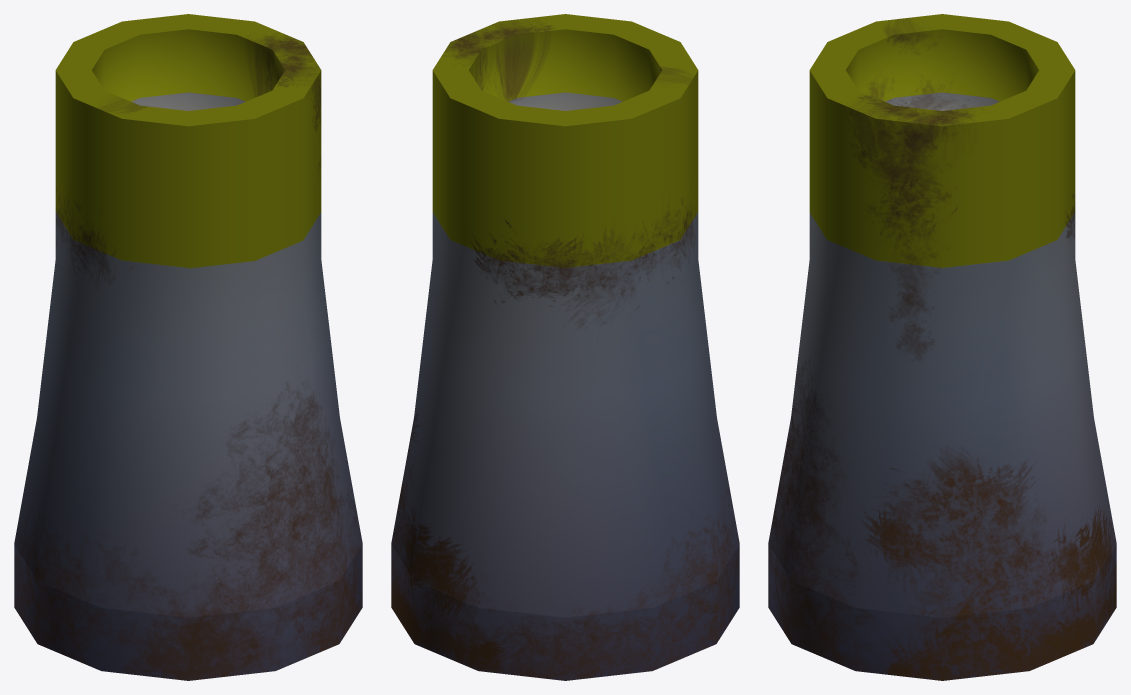
The model's file is ChimneyBig.glb.
The picture shows the model from 3 angles, left to right: view 1: azimuth 30°, elevation 25°; view 2: azimuth 150°, elevation 25°; view 3: azimuth 270°, elevation 25°; orthographic projection.
Visible parts, largest first — view 1: ChimneyBig; view 2: ChimneyBig; view 3: ChimneyBig.
Boxes of the visible parts, bbox=[...] form: ChimneyBig: bbox=[14, 14, 362, 680]; ChimneyBig: bbox=[391, 14, 739, 680]; ChimneyBig: bbox=[768, 14, 1116, 680].
Bounding box in the file's own units: 6.56 × 11.15 × 6.56.
Materials: 1 (1 with a texture image).
